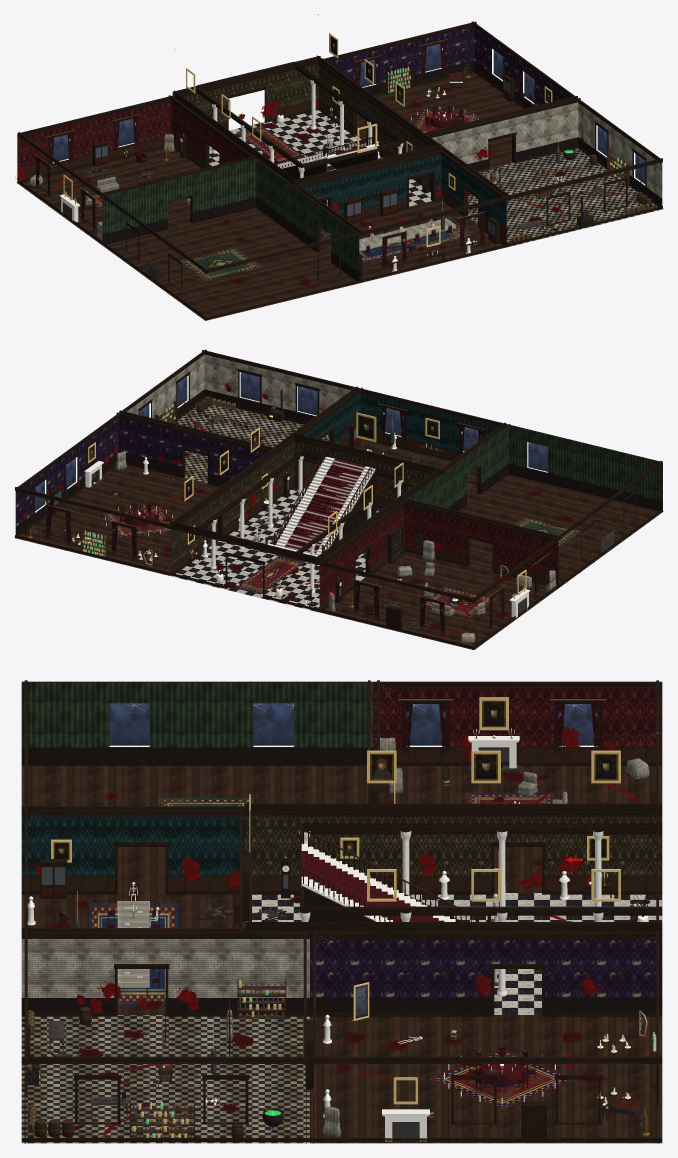
The model's file is house_ground.glb.
3 views of the same model, one above another, from view 1: azimuth 30°, elevation 25°; view 2: azimuth 150°, elevation 25°; view 3: azimuth 270°, elevation 25° (orthographic). The views are drawn at different scales.
Parts seen in each view (by area): view 1: house_ground; view 2: house_ground; view 3: house_ground.
Part boxes in pixels (box(x1,y1,x2,y2)): house_ground: box(15, 14, 663, 320); house_ground: box(14, 349, 663, 649); house_ground: box(21, 680, 662, 1143).
Size of the model in its own units: 56.48 by 11.45 by 40.58.
Materials: 80 (62 with a texture image).
